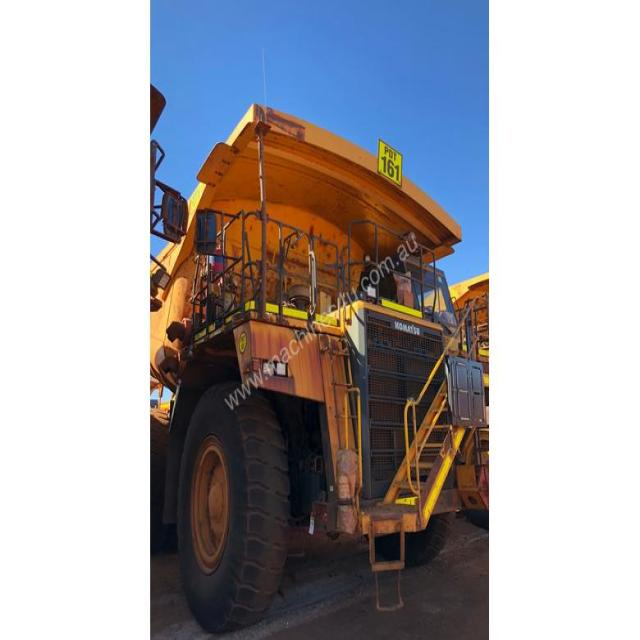dump_truck: (166, 96, 479, 614)
